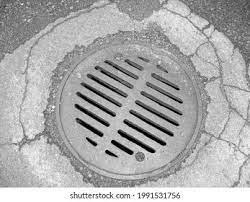closed manhole-not overflowing-: (61, 47, 200, 183)
